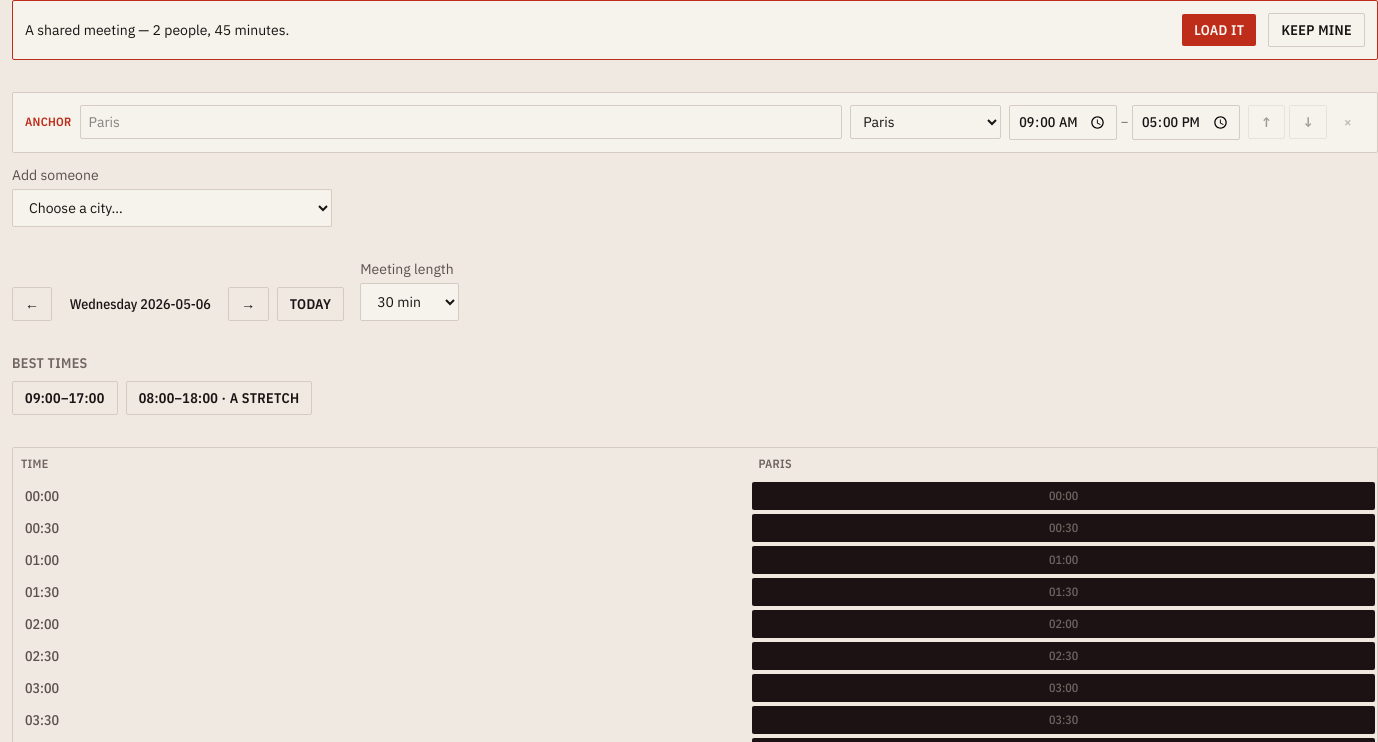
MeetingView › offers a shared roster rather than importing it behind the user’s back
The width and height of the screenshot is (1378, 742).
Expected: the text "A shared meeting — 2 people, 45 minutes." is shown, [25,21,289,39]
Expected: the field showing "Ana" is not shown
What coordinates should you click on to do the following:
click the button "Load it"
I would click on:
 (1219, 30)
Its box is [1182,14,1256,46].
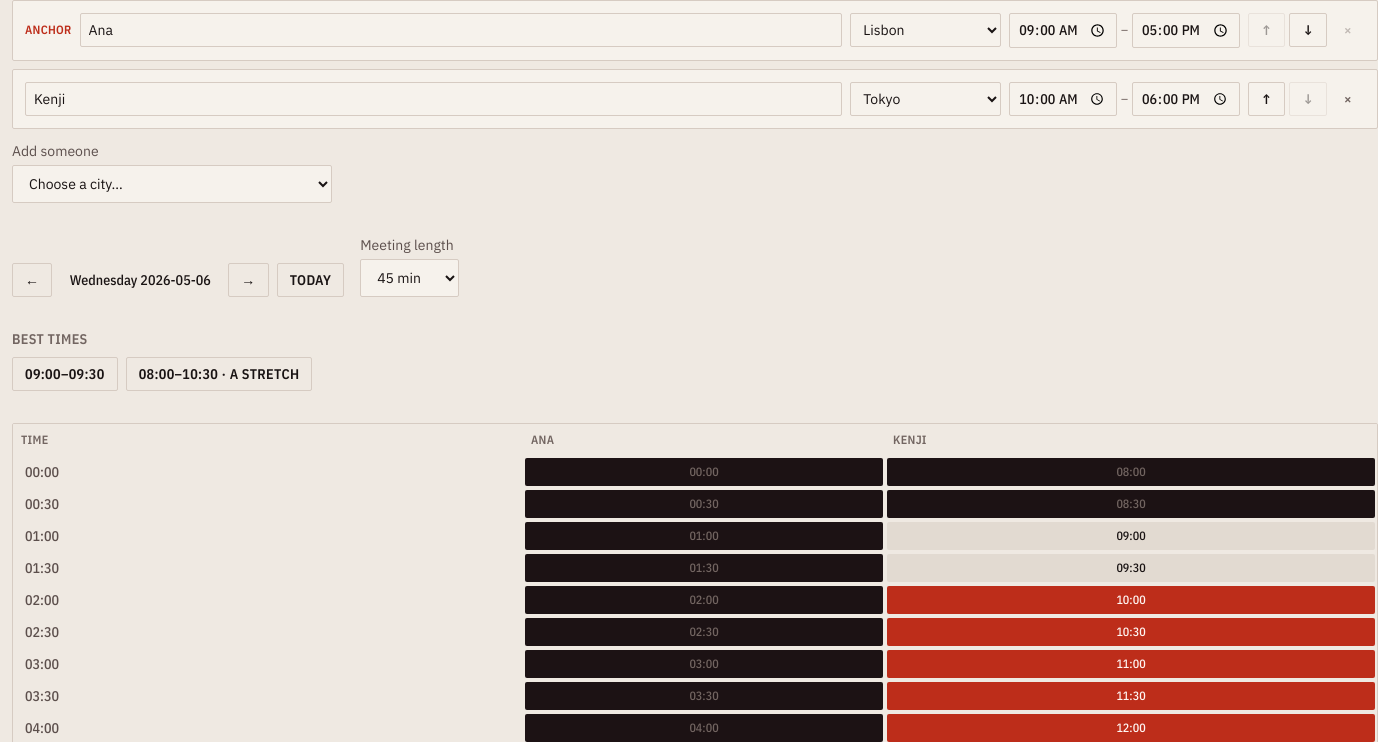
Result: the field showing "Ana" is shown at [80,13,842,47]
Result: the field showing "Kenji" is shown at [25,82,842,116]
